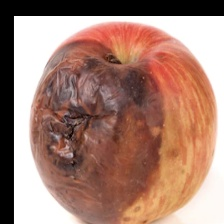apple: (18, 29, 204, 196)
